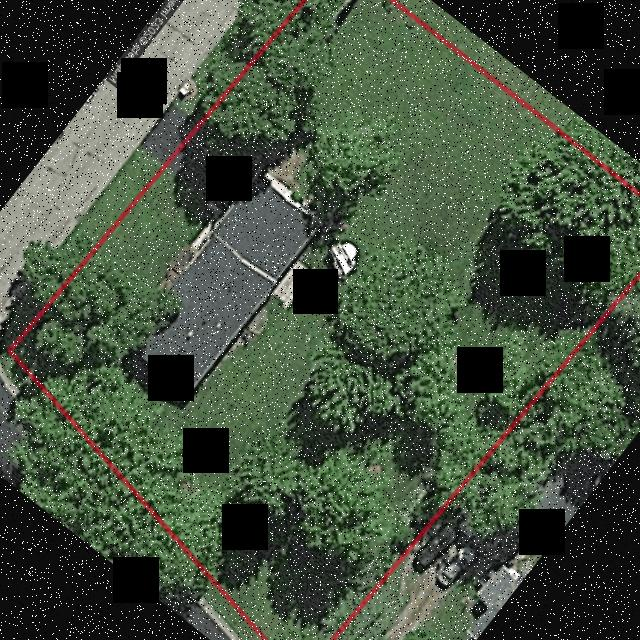Driveway: (165, 120, 265, 217)
Extra Driveway: (141, 103, 195, 162)
Extra Lawn: (46, 147, 160, 279)
House: (124, 173, 322, 395)
Other: (329, 242, 357, 282)
